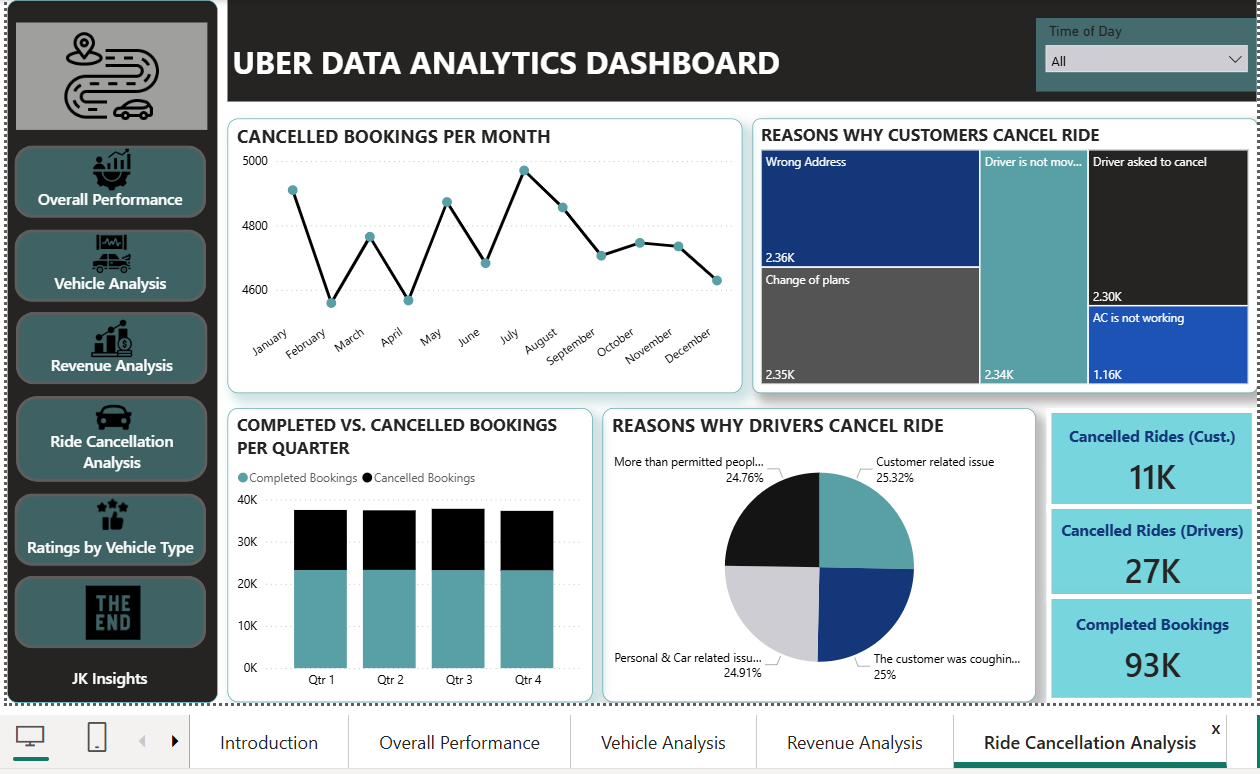

The page's visual inventory and layout, read from the dashboard file:
{"tool":"powerbi","page":{"name":"Ride Cancellation Analysis","canvas":[1280,720],"ordinal":4},"visuals":[{"type":"textbox","box":[0,0,215.7,720],"z":0,"group":"g1"},{"type":"treemap","title":"REASONS WHY CUSTOMERS CANCEL RIDE","fields":{"Group":["ncr_ride_bookings.Reason for cancelling by Customer"],"Values":["CountNonNull(ncr_ride_bookings.Booking ID)"]},"box":[762.9,121.4,517.1,281.4],"z":0},{"type":"actionButton","box":[8.2,149.3,196.2,74.1],"z":1000,"group":"g1"},{"type":"pieChart","title":"REASONS WHY DRIVERS CANCEL RIDE","fields":{"Category":["ncr_ride_bookings.Driver Cancellation Reason"],"Y":["CountNonNull(ncr_ride_bookings.Booking ID)"]},"box":[610,418.6,444.3,301.4],"z":1000},{"type":"textbox","box":[225.7,0,1054.3,104.3],"z":2000},{"type":"image","box":[9.6,23.3,196.2,109.8],"z":2000,"group":"g1"},{"type":"lineStackedColumnComboChart","title":"COMPLETED VS. CANCELLED BOOKINGS PER QUARTER","fields":{"Y":["ncr_ride_bookings.Completed Bookings","ncr_ride_bookings.Cancelled Bookings"],"Category":["ncr_ride_bookings.Date.Variation.Date Hierarchy.Quarter"]},"box":[225.7,418.6,374.3,301.4],"z":3000},{"type":"textbox","box":[61.7,677.9,87.8,32.9],"z":3000,"group":"g1"},{"type":"actionButton","box":[8.2,234.4,196.2,74.1],"z":4000,"group":"g1"},{"type":"cardVisual","fields":{"Data":["Sum(ncr_ride_bookings.Cancelled Rides by Customer)"]},"box":[1064.3,418.6,215.7,108.6],"z":4000},{"type":"actionButton","box":[9.6,319.4,196.2,74.1],"z":5000,"group":"g1"},{"type":"cardVisual","fields":{"Data":["Sum(ncr_ride_bookings.Cancelled Rides by Driver)"]},"box":[1064.3,515.7,215.7,102.9],"z":5000},{"type":"actionButton","box":[9.6,406.2,196.2,87.8],"z":6000,"group":"g1"},{"type":"cardVisual","fields":{"Data":["ncr_ride_bookings.Completed Bookings"]},"box":[1064.3,608.6,215.7,111.4],"z":6000},{"type":"lineChart","title":"CANCELLED BOOKINGS PER MONTH","fields":{"Category":["ncr_ride_bookings.Date.Variation.Date Hierarchy.Month"],"Y":["ncr_ride_bookings.Cancelled Bookings"]},"box":[225.7,121.4,527.1,281.4],"z":7000},{"type":"actionButton","box":[8.2,590.1,196.2,74.1],"z":7000,"group":"g1"},{"type":"slicer","fields":{"Values":["ncr_ride_bookings.Time of Day"]},"box":[1053.9,17.8,226.4,75.5],"z":8000},{"type":"image","box":[48,145.5,119.4,54.9],"z":8000,"group":"g1"},{"type":"group","id":"g1","title":"Group 1","box":[0,0,215.7,720],"z":9000},{"type":"actionButton","box":[8.2,505,196.2,74.1],"z":9000,"group":"g1"},{"type":"image","box":[46.7,234.6,122.1,49.4],"z":10000,"group":"g1"},{"type":"image","box":[78.2,319.7,57.6,53.5],"z":11000,"group":"g1"},{"type":"image","box":[67.2,403.4,83.7,46.7],"z":12000,"group":"g1"},{"type":"image","box":[61.7,505,93.3,42.5],"z":13000,"group":"g1"},{"type":"image","box":[71.4,594.2,75.5,65.9],"z":14000,"group":"g1"}]}

Visuals, with their boxes on the page's 1280x720 design canvas (x1, y1, x2, y2). These are canvas units, not pixel positions in the 1260x774 screenshot, which may show the page scaled, cropped or inside an application window:
textbox: box(0, 0, 216, 720)
"REASONS WHY CUSTOMERS CANCEL RIDE" treemap: box(763, 121, 1280, 403)
actionButton: box(8, 149, 204, 223)
"REASONS WHY DRIVERS CANCEL RIDE" pieChart: box(610, 419, 1054, 720)
textbox: box(226, 0, 1280, 104)
image: box(10, 23, 206, 133)
"COMPLETED VS. CANCELLED BOOKINGS PER QUARTER" lineStackedColumnComboChart: box(226, 419, 600, 720)
textbox: box(62, 678, 150, 711)
actionButton: box(8, 234, 204, 308)
cardVisual - Sum(ncr_ride_bookings.Cancelled Rides by Customer): box(1064, 419, 1280, 527)
actionButton: box(10, 319, 206, 394)
cardVisual - Sum(ncr_ride_bookings.Cancelled Rides by Driver): box(1064, 516, 1280, 619)
actionButton: box(10, 406, 206, 494)
cardVisual - ncr_ride_bookings.Completed Bookings: box(1064, 609, 1280, 720)
"CANCELLED BOOKINGS PER MONTH" lineChart: box(226, 121, 753, 403)
actionButton: box(8, 590, 204, 664)
slicer - ncr_ride_bookings.Time of Day: box(1054, 18, 1280, 93)
image: box(48, 146, 167, 200)
"Group 1" group: box(0, 0, 216, 720)
actionButton: box(8, 505, 204, 579)
image: box(47, 235, 169, 284)
image: box(78, 320, 136, 373)
image: box(67, 403, 151, 450)
image: box(62, 505, 155, 548)
image: box(71, 594, 147, 660)
